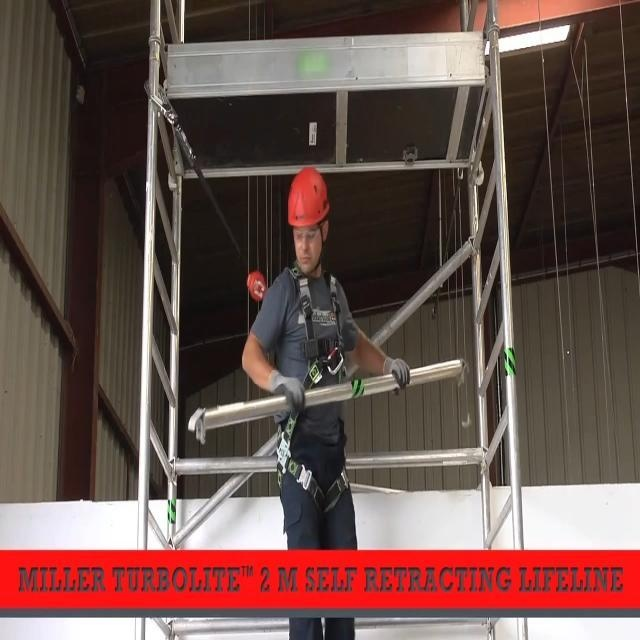Arnes_seguridad: (276, 254, 356, 520)
